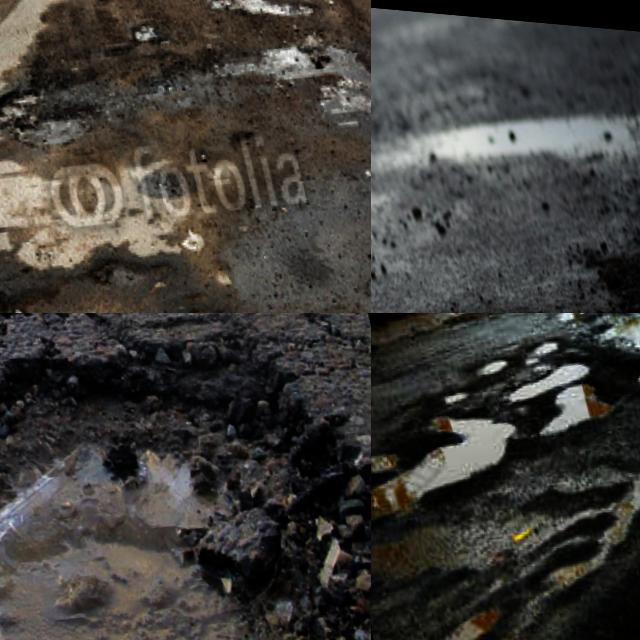Potholes: (0, 313, 371, 640), (371, 363, 579, 583), (441, 313, 640, 510), (519, 426, 640, 640), (371, 220, 638, 313), (205, 0, 371, 149), (0, 34, 114, 192), (50, 216, 215, 313), (371, 555, 553, 640), (109, 0, 206, 114), (0, 313, 99, 410)
